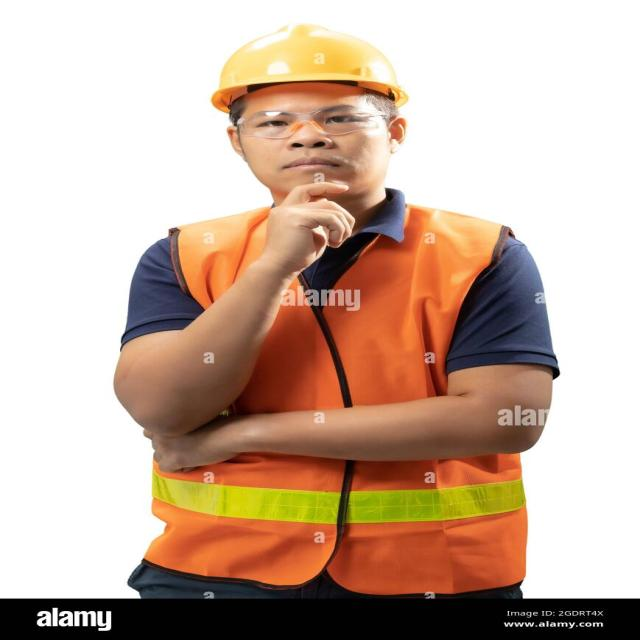goggles: (217, 99, 407, 153)
helmet: (214, 18, 423, 100)
vest: (170, 207, 526, 602)
